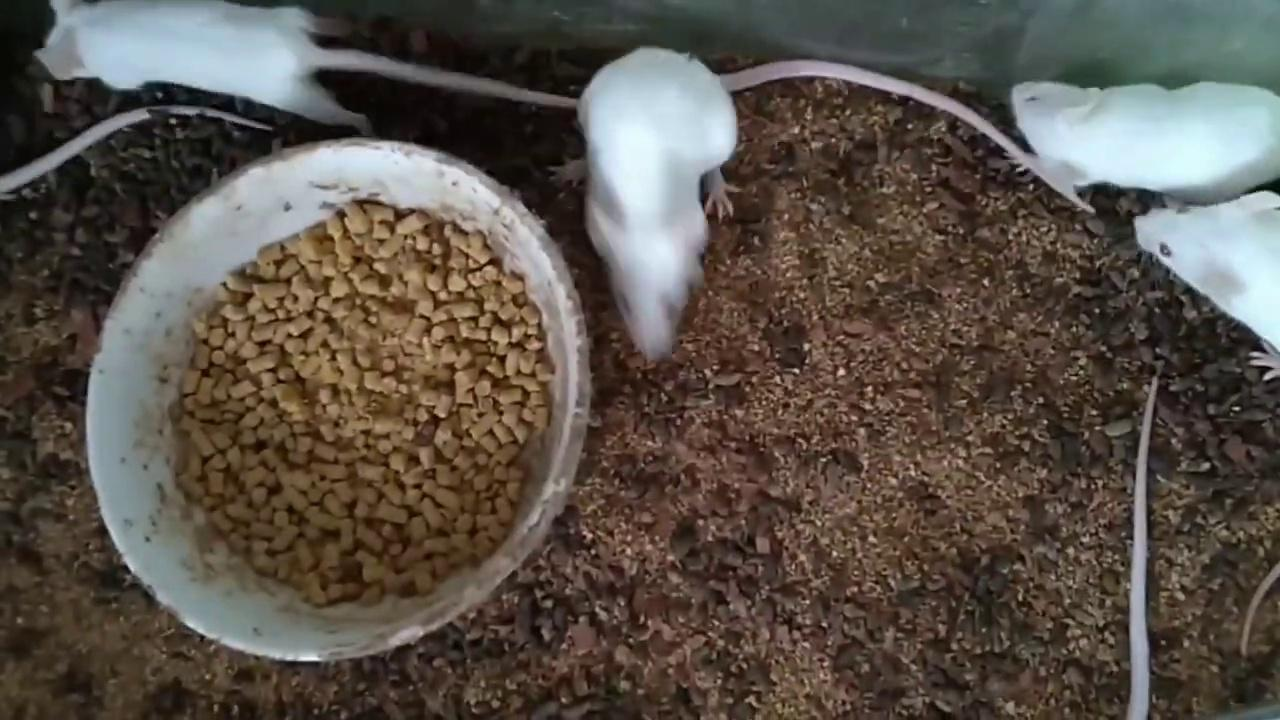rat: (553, 51, 1037, 370), (33, 0, 581, 134), (1016, 79, 1280, 201), (1135, 189, 1280, 381)
